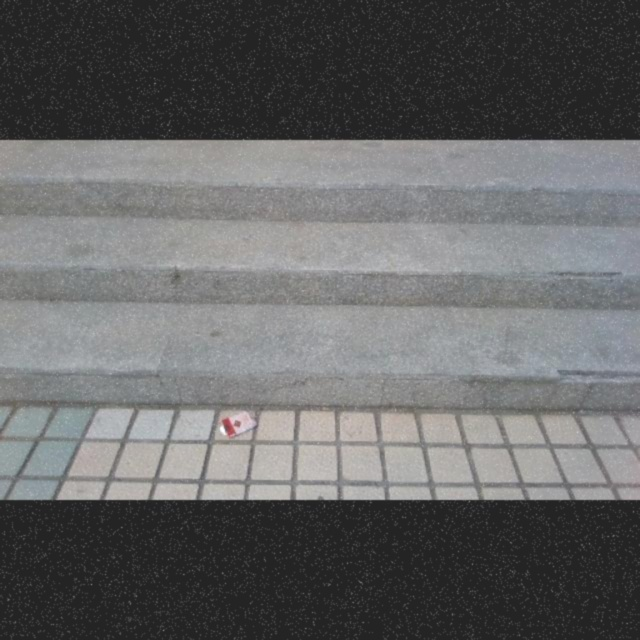stair: (3, 161, 640, 406)
